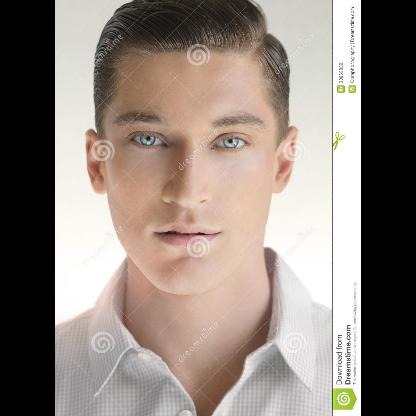Male: (86, 46, 296, 292)
